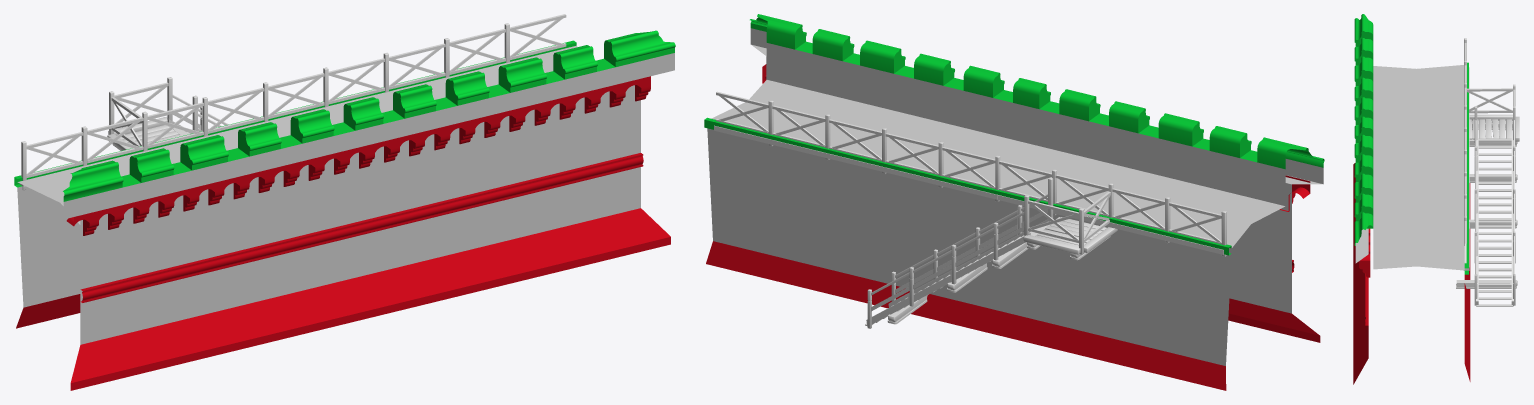
The model's file is Wall_1.fbx.
3 views of the same model, side by side, from view 1: azimuth 30°, elevation 25°; view 2: azimuth 150°, elevation 25°; view 3: azimuth 270°, elevation 25° (orthographic). The views are drawn at different scales.
Visible parts, largest first — view 1: Group_4.015, Group_3.009, Group_3.010, Group_3.005; view 2: Group_4.015, Group_3.009, Group_3.010, Group_3.005; view 3: Group_4.015, Group_3.010, Group_3.009.
Part boxes in pixels (x1,y1,x2,y2): Group_4.015: [14, 30, 675, 390]; Group_3.009: [19, 14, 566, 190]; Group_3.010: [107, 77, 228, 150]; Group_3.005: [147, 102, 203, 148]; Group_4.015: [704, 14, 1324, 390]; Group_3.009: [714, 91, 1226, 256]; Group_3.010: [865, 177, 1117, 328]; Group_3.005: [1053, 174, 1110, 227]; Group_4.015: [1353, 14, 1470, 384]; Group_3.010: [1456, 84, 1519, 306]; Group_3.009: [1463, 38, 1469, 270].
Bounding box in the file's own units: 2095 × 690 × 655.
